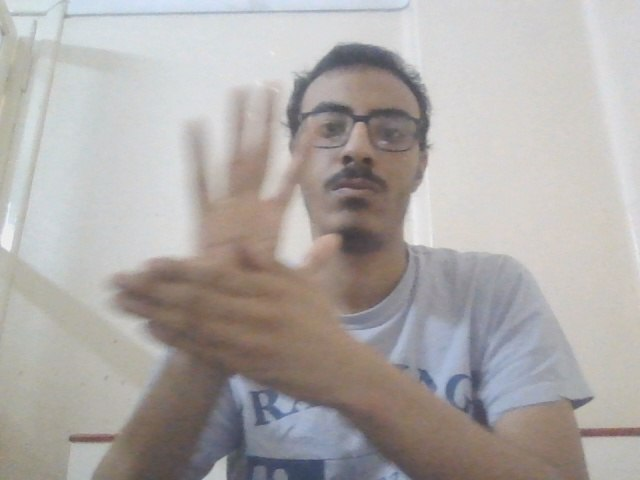Movie: (91, 76, 394, 408)
